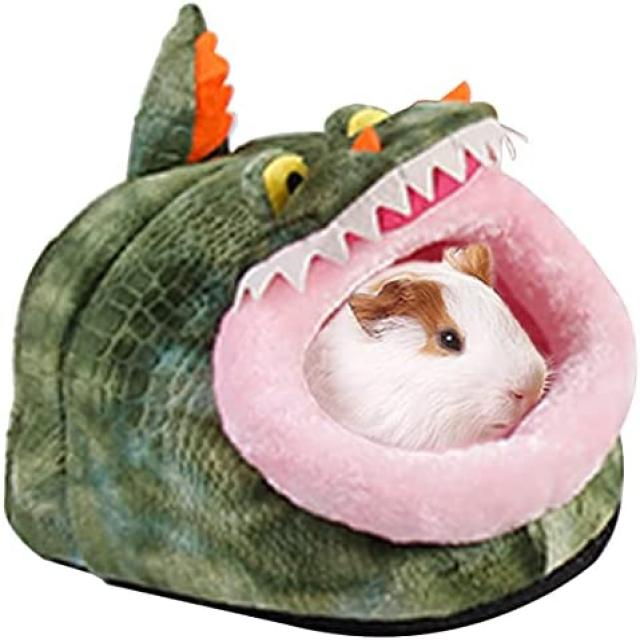guinea pig: (304, 244, 547, 453)
